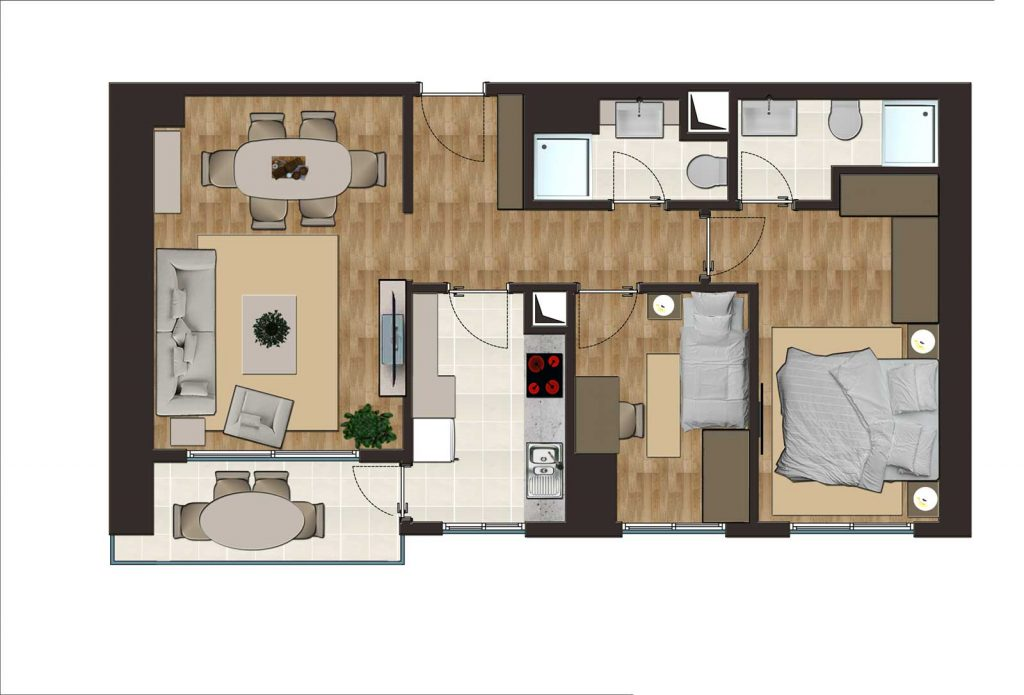room: (145, 83, 412, 460), (745, 160, 961, 540), (563, 276, 760, 541), (401, 279, 575, 538), (726, 79, 955, 214), (520, 80, 739, 211)
